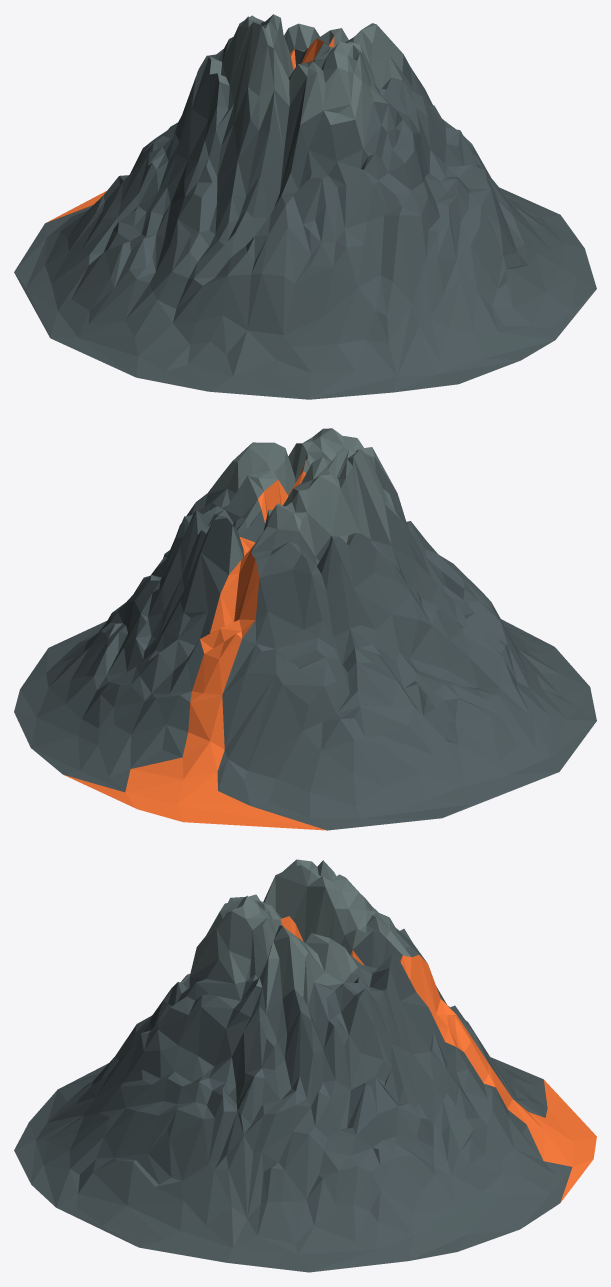
File: Volcano.fbx
3 renders of one model, top to bottom at view 1: azimuth 30°, elevation 25°; view 2: azimuth 150°, elevation 25°; view 3: azimuth 270°, elevation 25°, orthographic.
Visible parts, largest first — view 1: Volcano; view 2: Volcano; view 3: Volcano.
Part boxes in pixels (x1=…): Volcano: x1=14, y1=14, x2=596, y2=399; Volcano: x1=14, y1=428, x2=596, y2=830; Volcano: x1=14, y1=859, x2=596, y2=1272.
Bounding box in the file's own units: 15658 × 7876 × 15660.
